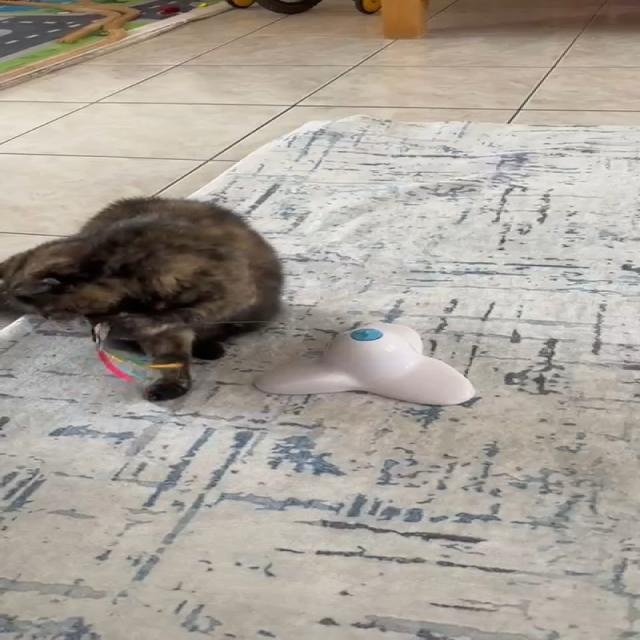authorized: (0, 194, 285, 401)
